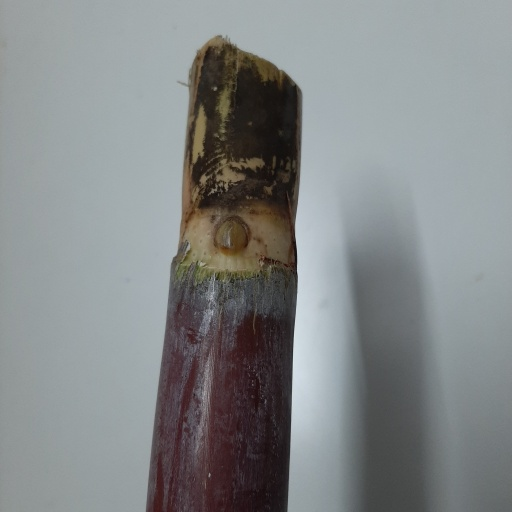Bud: (215, 216, 249, 252)
